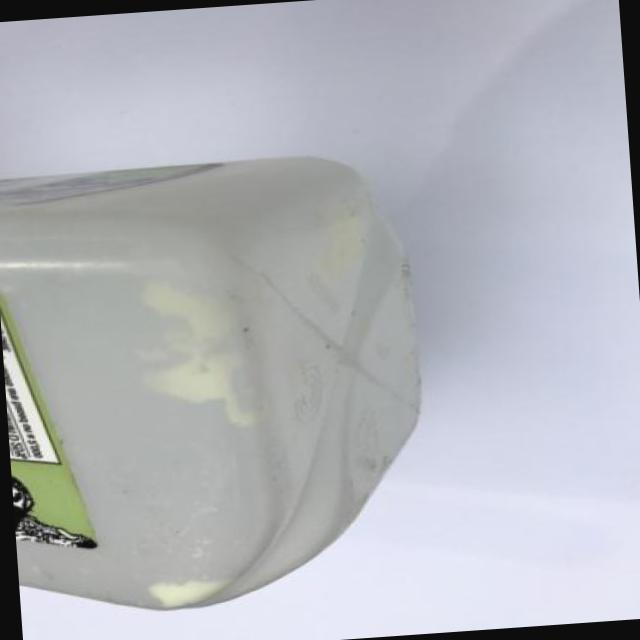plastic: (0, 127, 461, 627)
